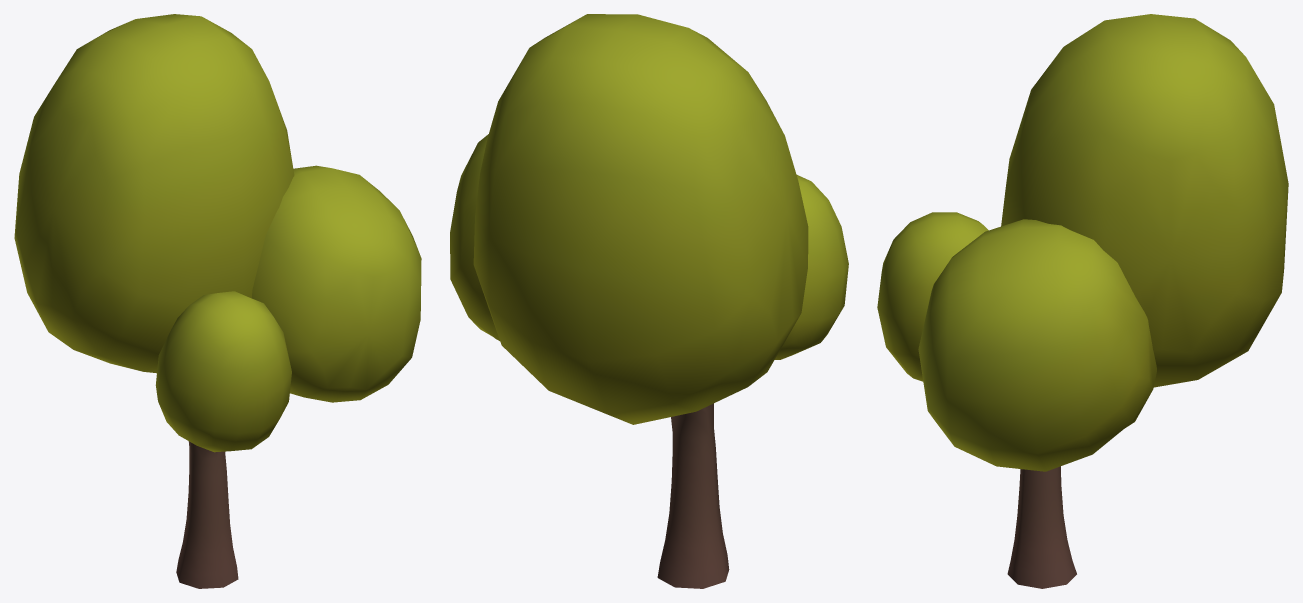
File: Tree5.fbx
The picture shows the model from 3 angles, left to right: view 1: azimuth 30°, elevation 25°; view 2: azimuth 150°, elevation 25°; view 3: azimuth 270°, elevation 25°; orthographic projection. The views are drawn at different scales.
Visible parts, largest first — view 1: polySurface313, polySurface314, polySurface311, polySurface312; view 2: polySurface313, polySurface312, polySurface311, polySurface314; view 3: polySurface313, polySurface314, polySurface311, polySurface312.
Boxes of the visible parts, bbox=[...] form: polySurface313: bbox=[14, 14, 294, 373]; polySurface314: bbox=[252, 165, 421, 402]; polySurface311: bbox=[155, 291, 291, 452]; polySurface312: bbox=[176, 441, 238, 588]; polySurface313: bbox=[473, 14, 808, 424]; polySurface312: bbox=[657, 403, 729, 588]; polySurface311: bbox=[774, 174, 848, 359]; polySurface314: bbox=[450, 134, 499, 340]; polySurface313: bbox=[1001, 14, 1288, 387]; polySurface314: bbox=[918, 219, 1156, 471]; polySurface311: bbox=[877, 212, 988, 381]; polySurface312: bbox=[1007, 466, 1076, 588].
Size of the model in its own units: 707 by 1064 by 723.
